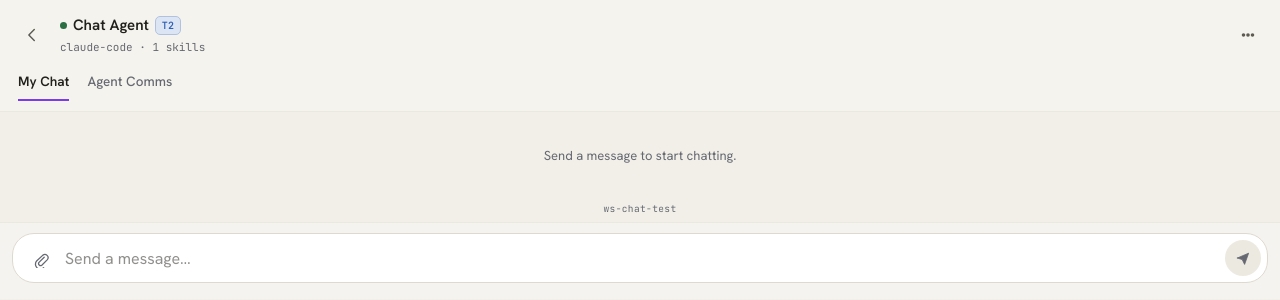
Test: MobileChat — Agent Comms render parity (#231) › renders a peer message on the Agent Comms tab
Click the button "Agent Comms" at {"x": 130, "y": 84}, box [88,67,172,101]
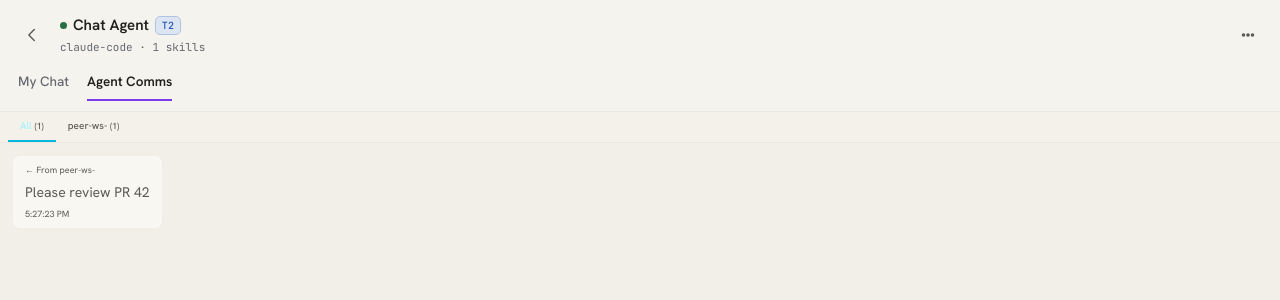
Expected: the text "Please review PR 42" is shown, [25,180,150,204]
